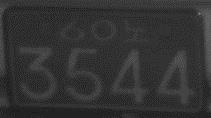0: (90, 18, 118, 42)
3: (17, 46, 57, 102)
4: (109, 47, 150, 104), (155, 48, 196, 105)
5: (64, 46, 103, 102)
6: (60, 18, 86, 42)
노: (122, 18, 147, 44)
